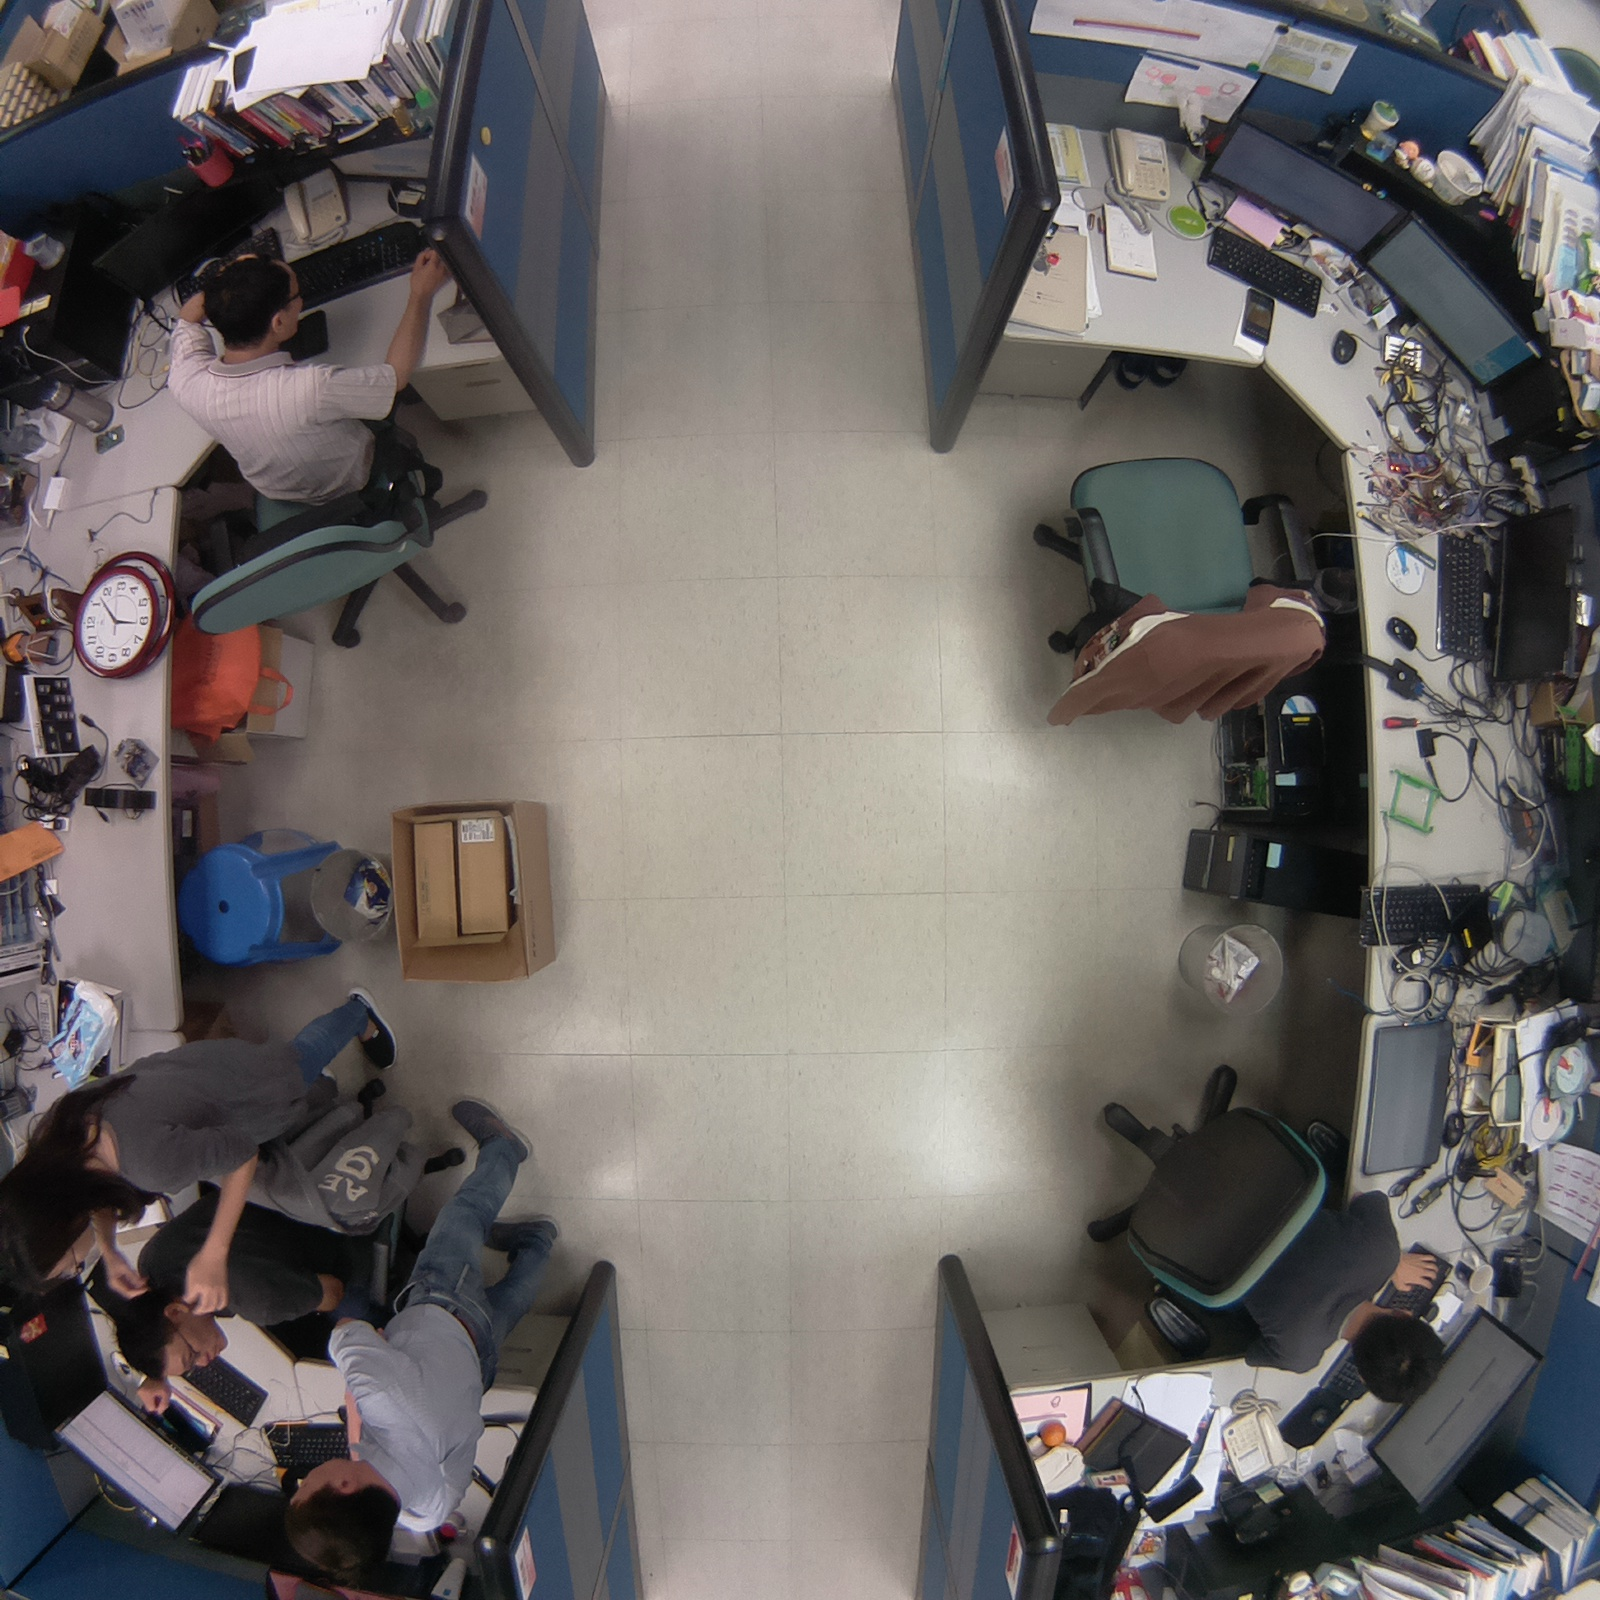chair: (1012, 419, 1337, 740)
head: (276, 1445, 407, 1586), (1, 1151, 105, 1292), (105, 1280, 231, 1386), (194, 247, 315, 353), (1343, 1302, 1456, 1414)
sitting: (1068, 1045, 1464, 1434), (161, 241, 504, 675), (108, 1223, 381, 1386)
standing: (277, 1080, 573, 1600), (1, 977, 407, 1303)
